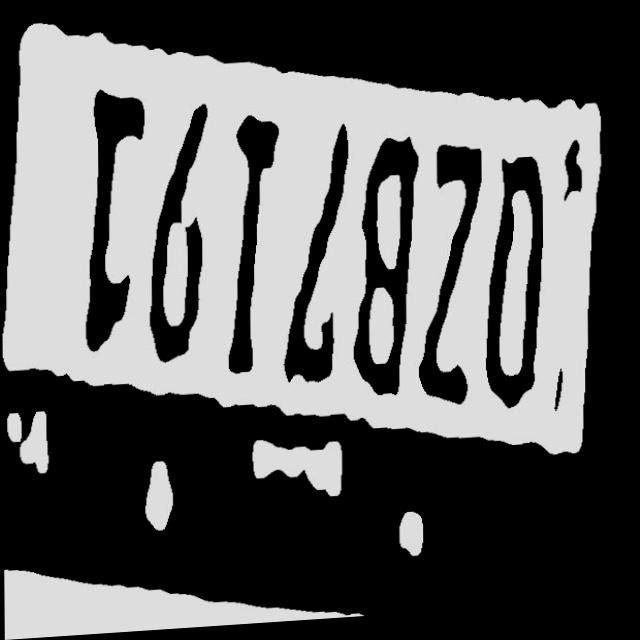1: (77, 86, 147, 360)
7: (282, 121, 351, 398)
9: (144, 99, 216, 372)
b: (351, 133, 419, 408)
i: (220, 113, 281, 384)
q: (479, 154, 549, 423)
z: (416, 144, 485, 420)
